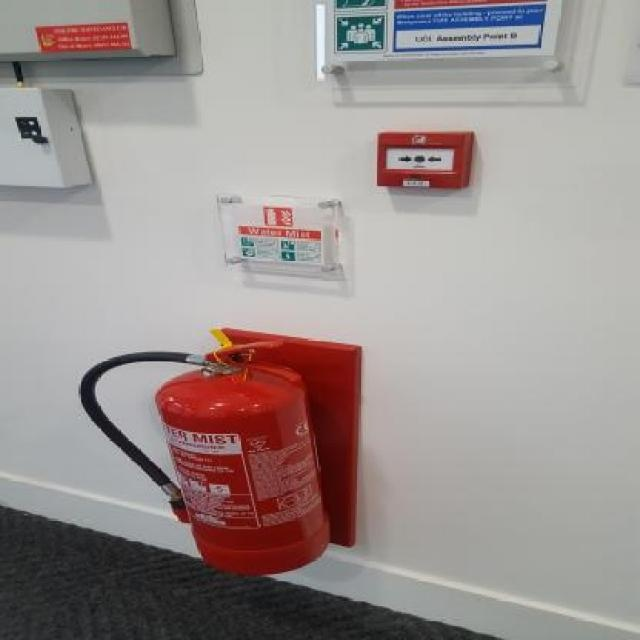fire extinguisher: (78, 340, 336, 577)
